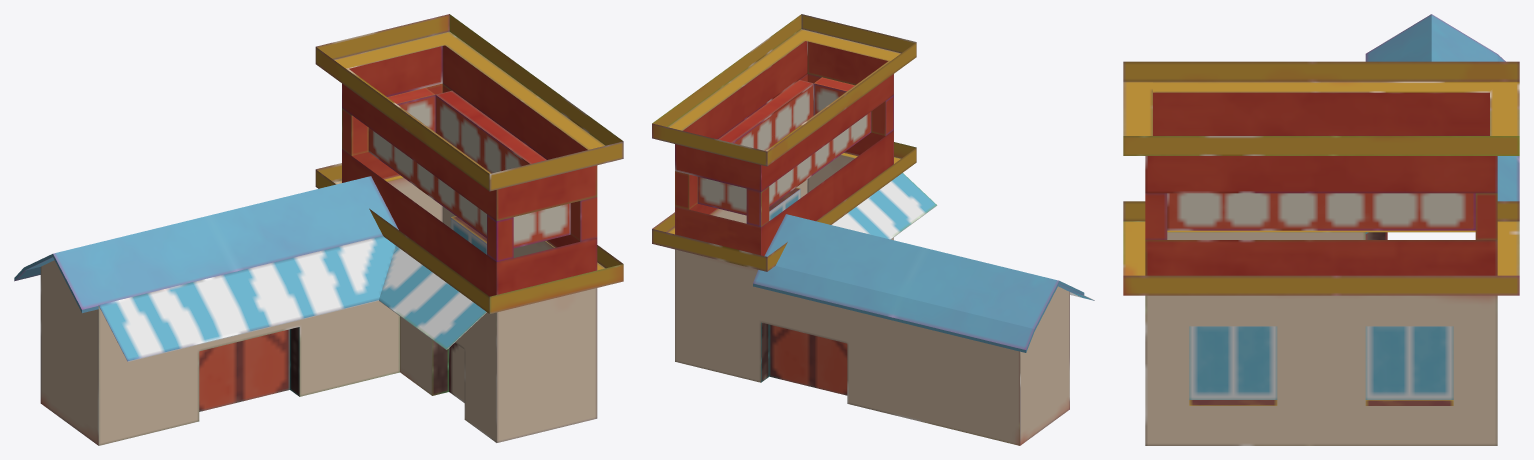
The model's file is m_bat03.fbx.
3 renders of one model, left to right at view 1: azimuth 30°, elevation 25°; view 2: azimuth 150°, elevation 25°; view 3: azimuth 270°, elevation 25°, orthographic. The views are drawn at different scales.
Visible parts, largest first — view 1: Cube.007; view 2: Cube.007; view 3: Cube.007.
Boxes of the visible parts, x1,y1,x2,y2 form: Cube.007: (14, 14, 623, 445); Cube.007: (652, 14, 1094, 445); Cube.007: (1123, 14, 1519, 445).
Size of the model in its own units: 2600 by 1600 by 1800.
Materials: 1 (1 with a texture image).
